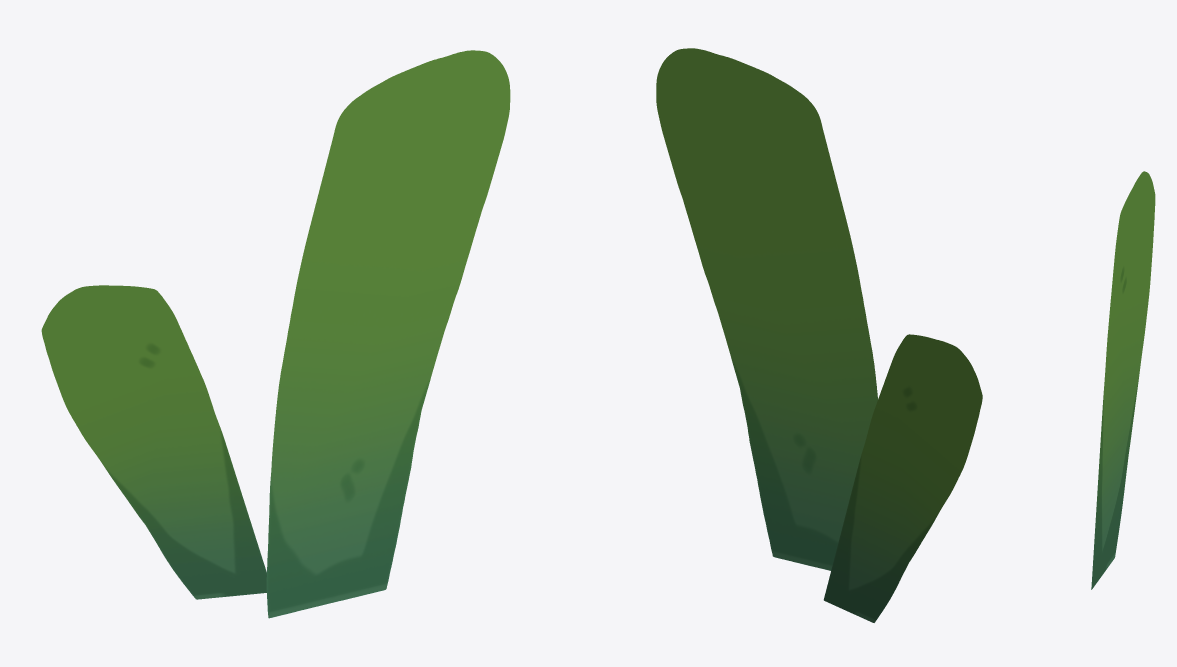
The model's file is Trees_Grass.fbx.
3 renders of one model, left to right at view 1: azimuth 30°, elevation 25°; view 2: azimuth 150°, elevation 25°; view 3: azimuth 270°, elevation 25°, orthographic. The views are drawn at different scales.
Visible parts, largest first — view 1: Grass; view 2: Grass; view 3: Grass.
Boxes of the visible parts, x1,y1,x2,y2 form: Grass: [41, 50, 510, 618]; Grass: [656, 48, 982, 622]; Grass: [1091, 171, 1155, 589].
Size of the model in its own units: 48.33 by 56.22 by 11.02.
Materials: 1 (1 with a texture image).
